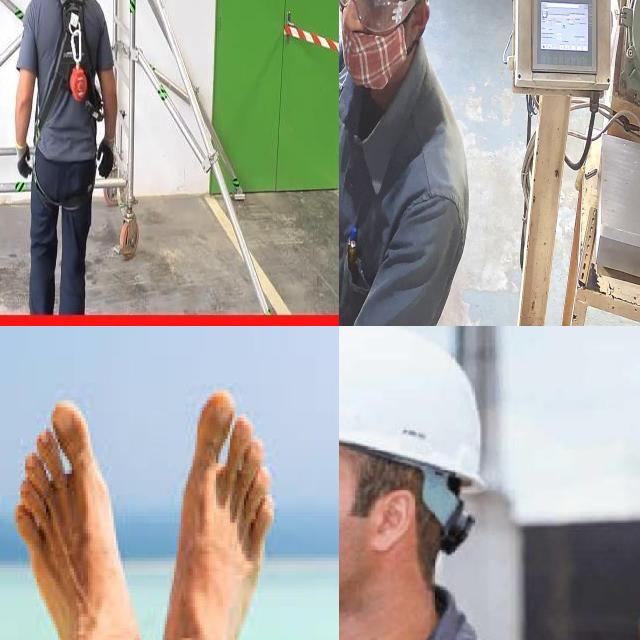Barefoots: (156, 378, 293, 640), (10, 385, 146, 640)
Harness: (36, 0, 104, 142)
No_Ear-Protection: (368, 486, 414, 556), (404, 0, 429, 66)
face_mask: (342, 24, 407, 90)
glasses: (354, 0, 421, 33)
